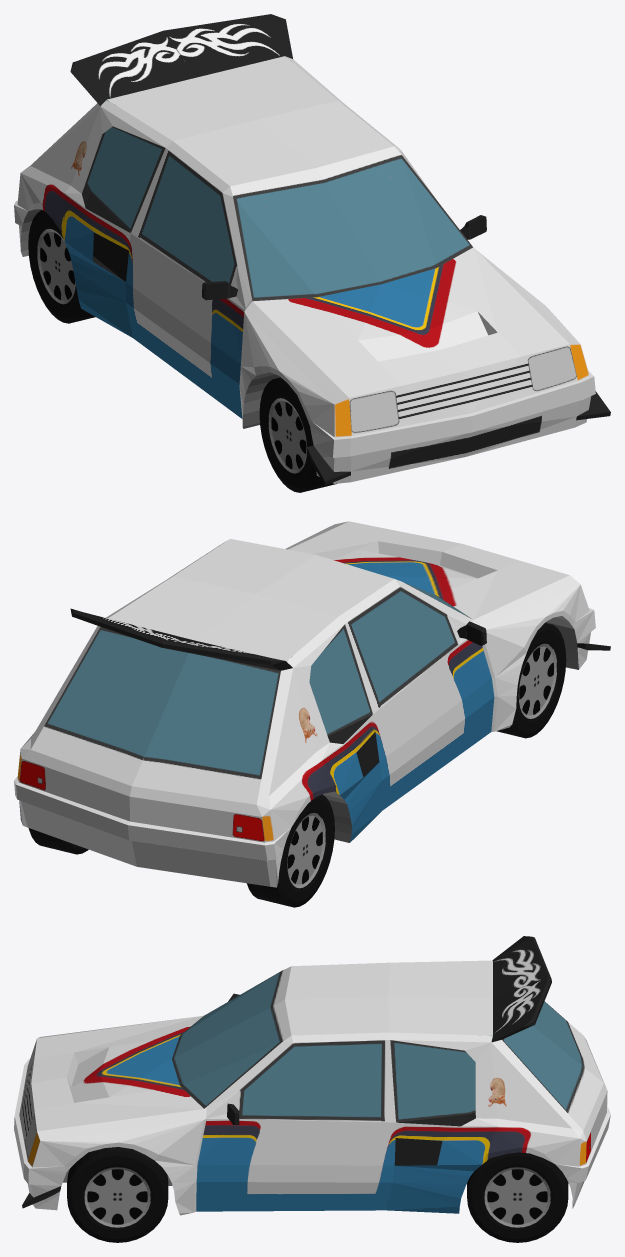
Rendered from car 4.fbx.
3 renders of one model, top to bottom at view 1: azimuth 30°, elevation 25°; view 2: azimuth 150°, elevation 25°; view 3: azimuth 270°, elevation 25°, orthographic. The views are drawn at different scales.
Visible parts, largest first — view 1: Chasis, FR, RR; view 2: Chasis, RR, FR, RL; view 3: Chasis, FL, RL.
Boxes of the visible parts, x1=… form: Chasis: x1=14, y1=14, x2=610, y2=485; FR: x1=259, y1=377, x2=336, y2=492; RR: x1=28, y1=210, x2=95, y2=323; Chasis: x1=14, y1=521, x2=610, y2=887; RR: x1=247, y1=794, x2=334, y2=907; FR: x1=497, y1=623, x2=566, y2=738; RL: x1=28, y1=828, x2=88, y2=854; Chasis: x1=14, y1=936, x2=610, y2=1215; FL: x1=67, y1=1147, x2=168, y2=1242; RL: x1=467, y1=1152, x2=568, y2=1242.
Bounding box in the file's own units: 180 × 148 × 377.
